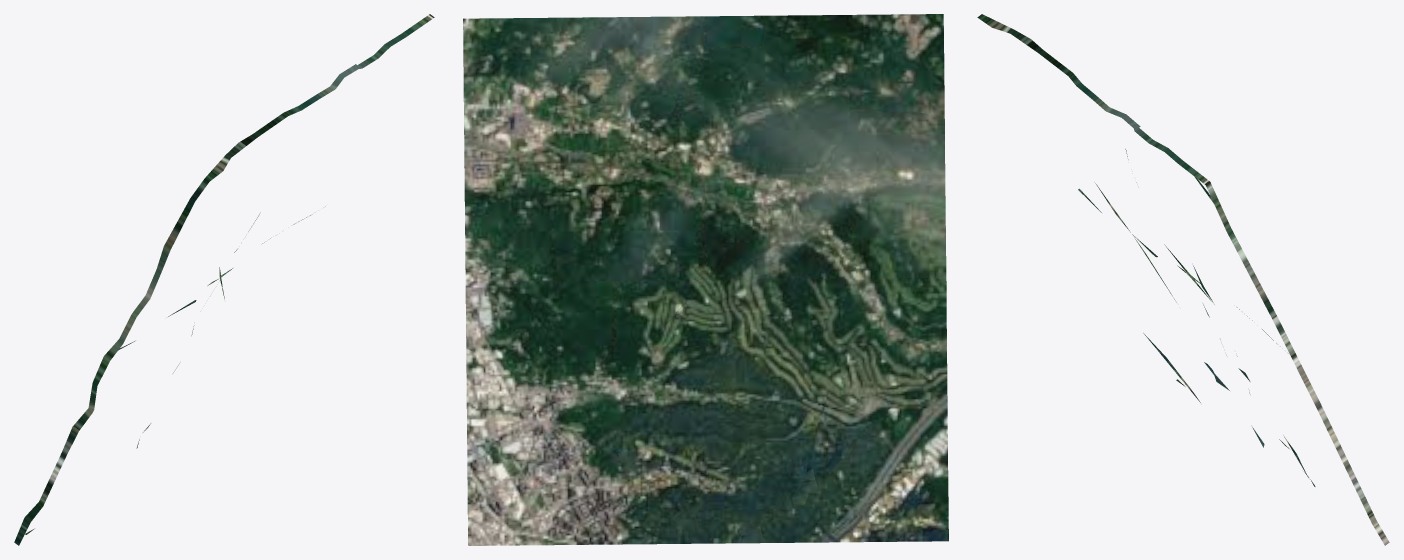
The picture shows the model from 3 angles, left to right: view 1: azimuth 30°, elevation 25°; view 2: azimuth 150°, elevation 25°; view 3: azimuth 270°, elevation 25°; orthographic projection. The views are drawn at different scales.
Bounding box in the file's own units: 4962 × 4509 × 4058.
Materials: 1 (1 with a texture image).
